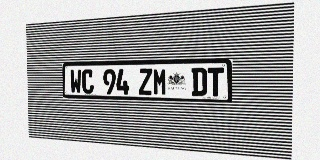4: (116, 69, 129, 95)
9: (103, 69, 116, 94)
C: (82, 69, 94, 94)
D: (191, 68, 207, 96)
M: (153, 68, 167, 95)
T: (207, 67, 224, 96)
W: (70, 69, 82, 94)
Z: (139, 68, 152, 95)
